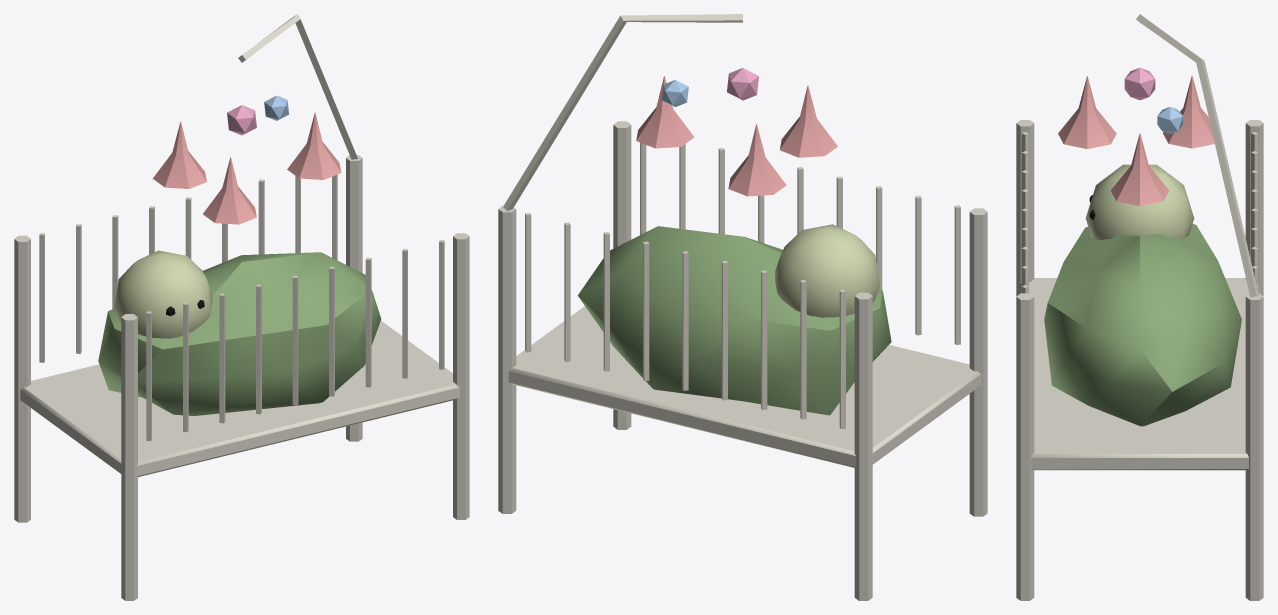
The model's file is mold_crib.glb.
3 views of the same model, side by side, from view 1: azimuth 30°, elevation 25°; view 2: azimuth 150°, elevation 25°; view 3: azimuth 270°, elevation 25° (orthographic). The views are drawn at different scales.
Visible parts, largest first — view 1: mold_crib; view 2: mold_crib; view 3: mold_crib.
Boxes of the visible parts, box(x1,y1,x2,y2) form: mold_crib: box(14, 14, 469, 600); mold_crib: box(498, 14, 987, 600); mold_crib: box(1016, 14, 1263, 600).
Bounding box in the file's own units: 1.41 × 1.82 × 0.82.
